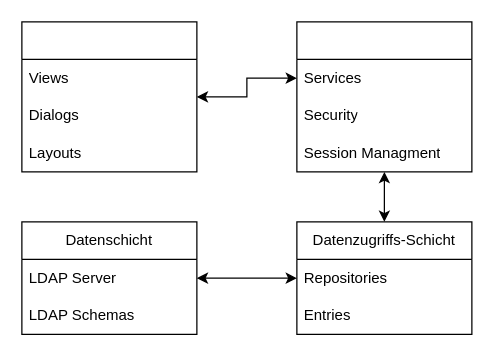
This 494x356 diagram has some shape labels left out. Here are the shapes that lost their labels. From the top down, the box of each, then its label:
(21, 21, 197, 172): Präsentationsschicht
(296, 21, 472, 172): Geschäftslogik-Schicht
